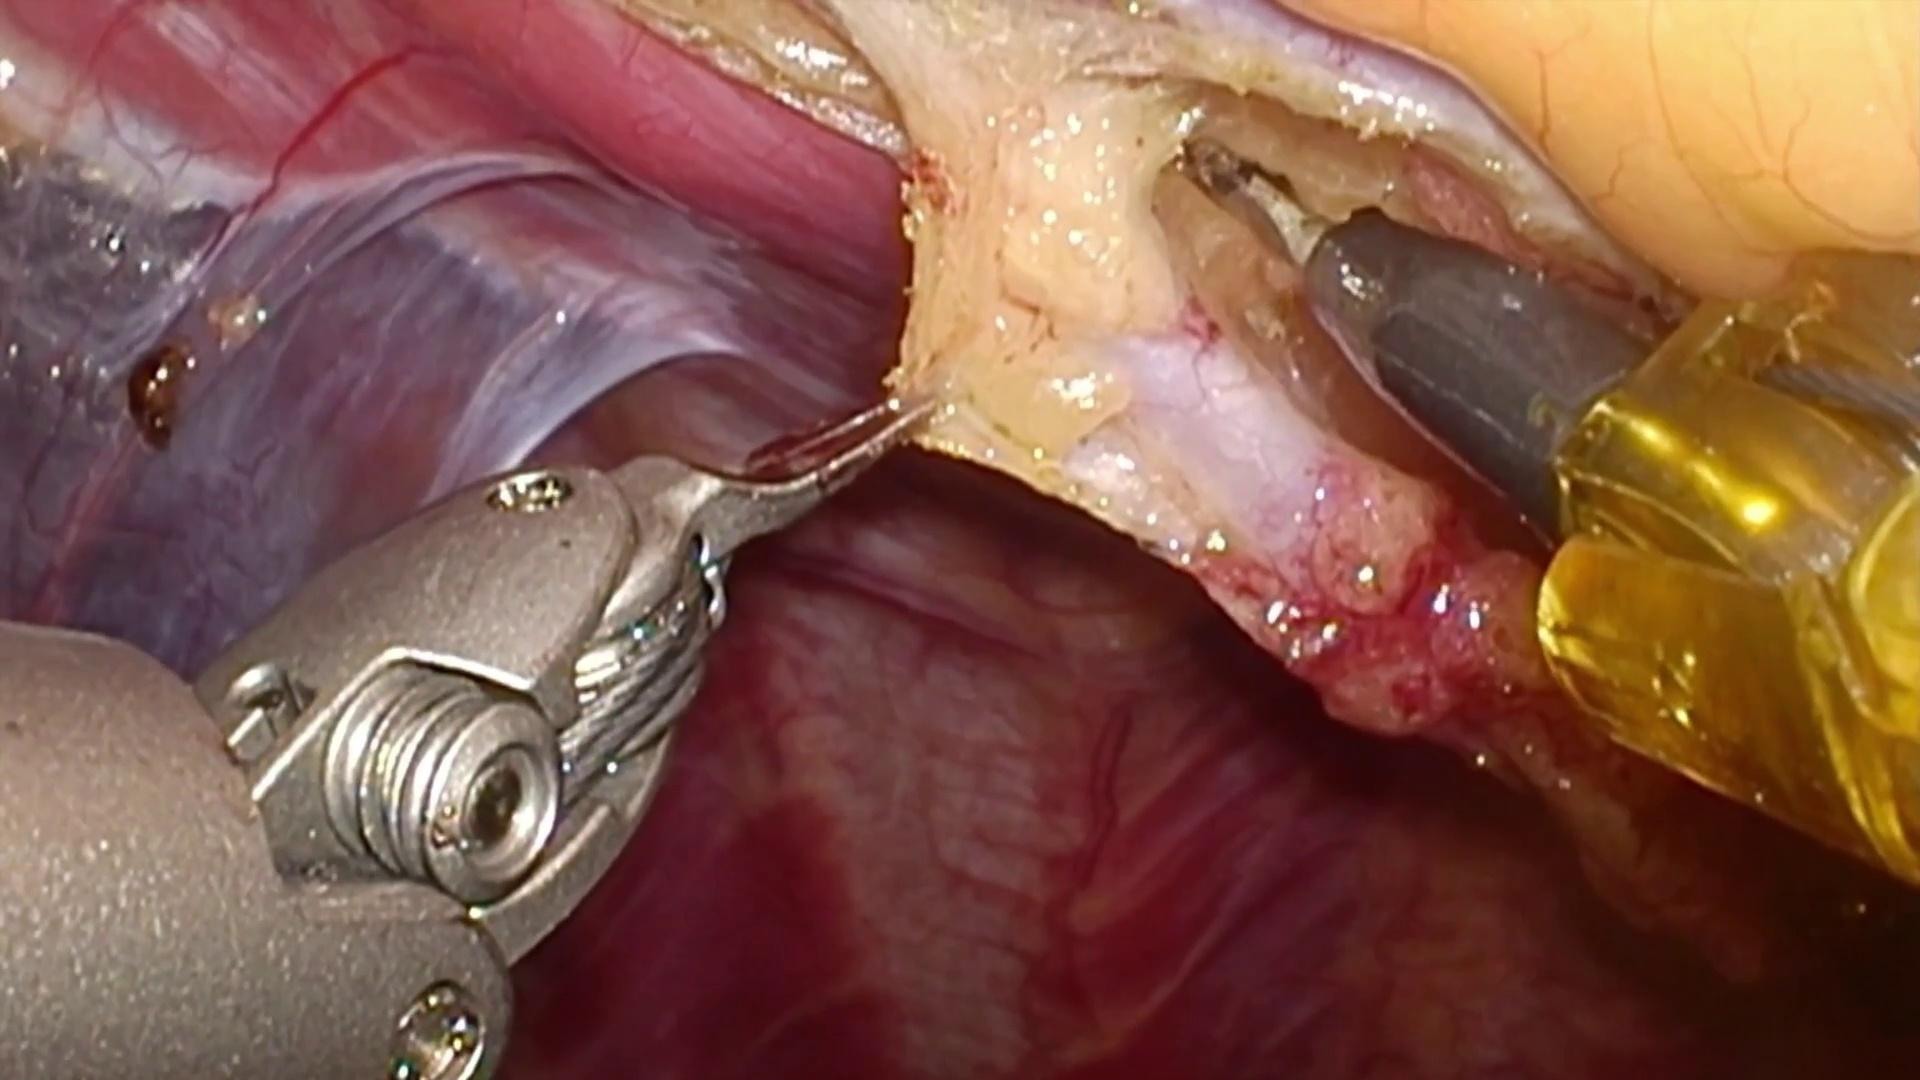Cautery_Spatula: (1178, 128, 1648, 539)
Debakey: (615, 360, 936, 578)
